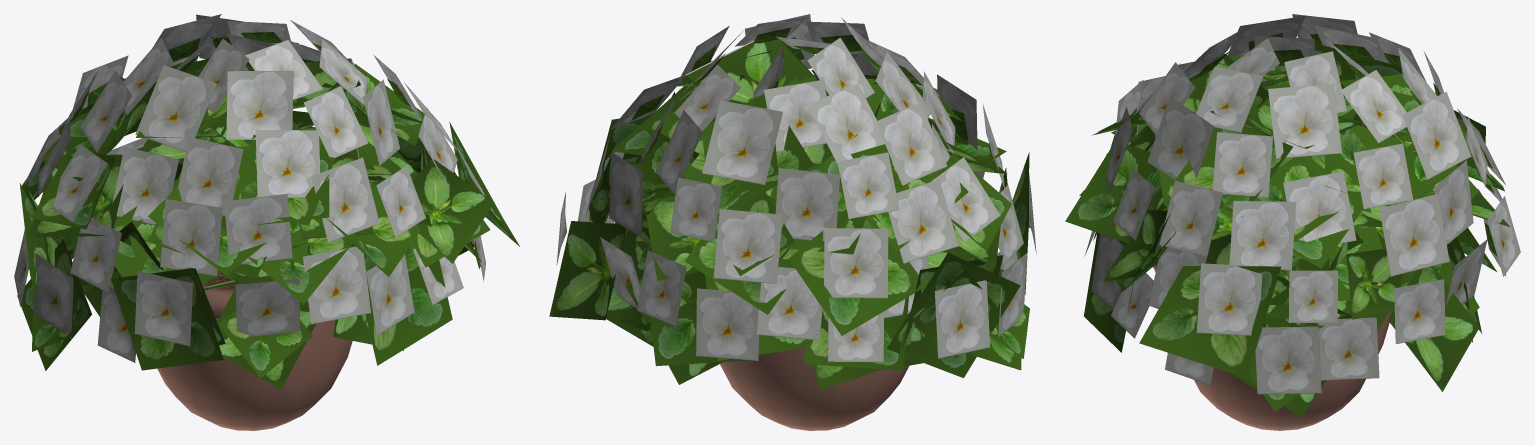
Rendered from Furniture_foliageplant_12_LOD0.fbx.
The picture shows the model from 3 angles, left to right: view 1: azimuth 30°, elevation 25°; view 2: azimuth 150°, elevation 25°; view 3: azimuth 270°, elevation 25°; orthographic projection.
Parts seen in each view (by area): view 1: Furniture_foliageplant_12_B, Furniture_foliageplant_12_A; view 2: Furniture_foliageplant_12_B, Furniture_foliageplant_12_A; view 3: Furniture_foliageplant_12_B, Furniture_foliageplant_12_A.
Boxes of the visible parts, x1,y1,x2,y2 form: Furniture_foliageplant_12_B: (14,14,519,389); Furniture_foliageplant_12_A: (157,272,352,430); Furniture_foliageplant_12_B: (549,14,1036,389); Furniture_foliageplant_12_A: (720,348,908,430); Furniture_foliageplant_12_B: (1065,14,1520,417); Furniture_foliageplant_12_A: (1153,263,1391,430).
Bounding box in the file's own units: 53.3 × 41.35 × 46.25.
